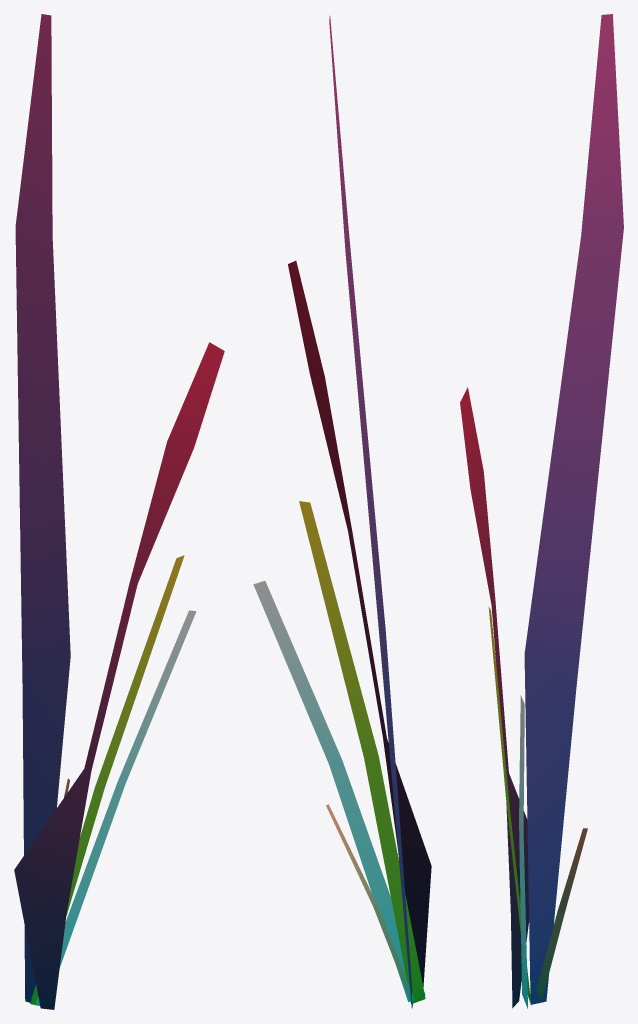
The model's file is Nordic_Coastal_Groundcover_vlqkdeaja_Mid_vlqkdeaja_VarN_LOD1.fbx.
The picture shows the model from 3 angles, left to right: view 1: azimuth 30°, elevation 25°; view 2: azimuth 150°, elevation 25°; view 3: azimuth 270°, elevation 25°; orthographic projection. The views are drawn at different scales.
Parts seen in each view (by area): view 1: _jsr0_VarN_LOD3; view 2: _jsr0_VarN_LOD3; view 3: _jsr0_VarN_LOD3.
Boxes of the visible parts, x1,y1,x2,y2 form: _jsr0_VarN_LOD3: (14,14,224,1009); _jsr0_VarN_LOD3: (253,16,431,1008); _jsr0_VarN_LOD3: (460,14,623,1008).
Size of the model in its own units: 13.97 by 72.51 by 10.61.
